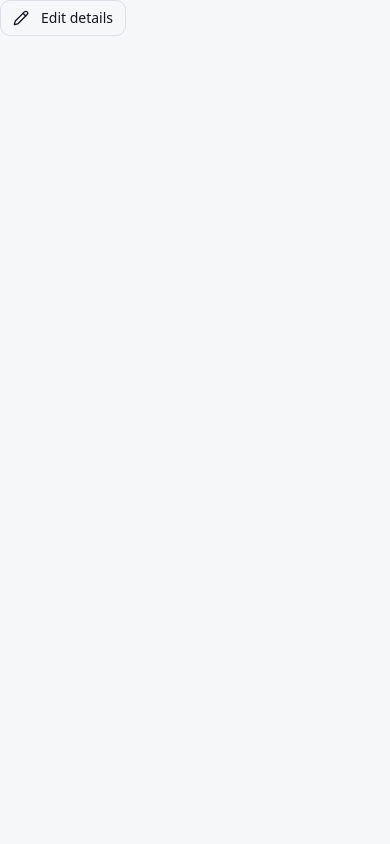
editing team contact details › saves a corrected name with no email
Click the button "Edit details" at (63, 18), box top-left (0, 0), bottom-right (126, 36)
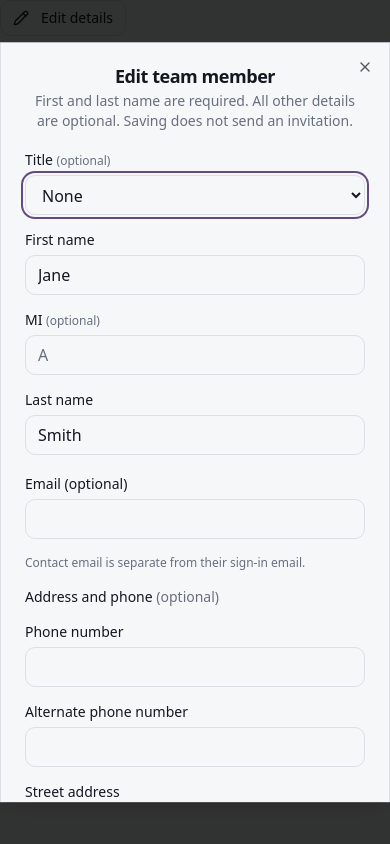
Replace the text in the field labelled "First name" with "Janet" at (195, 275), box top-left (25, 255), bottom-right (365, 295)
(page scrolled)
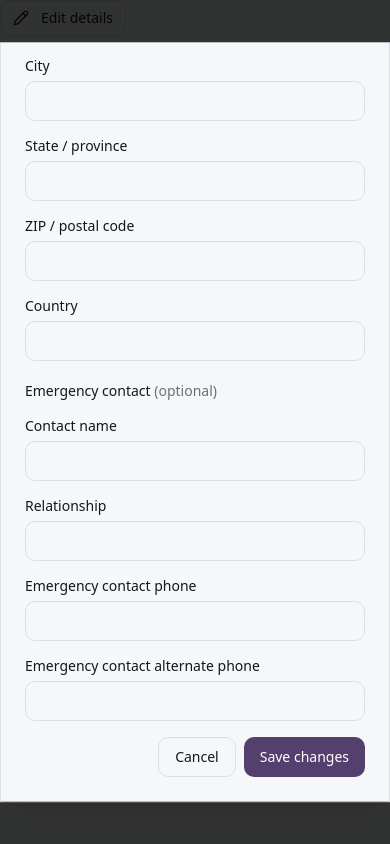
Click the button "Save changes" at (304, 757), box top-left (244, 737), bottom-right (365, 777)
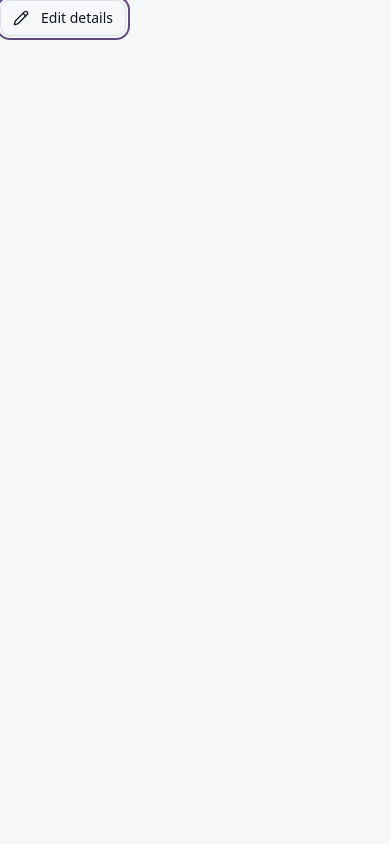
Check: the dialog is gone
